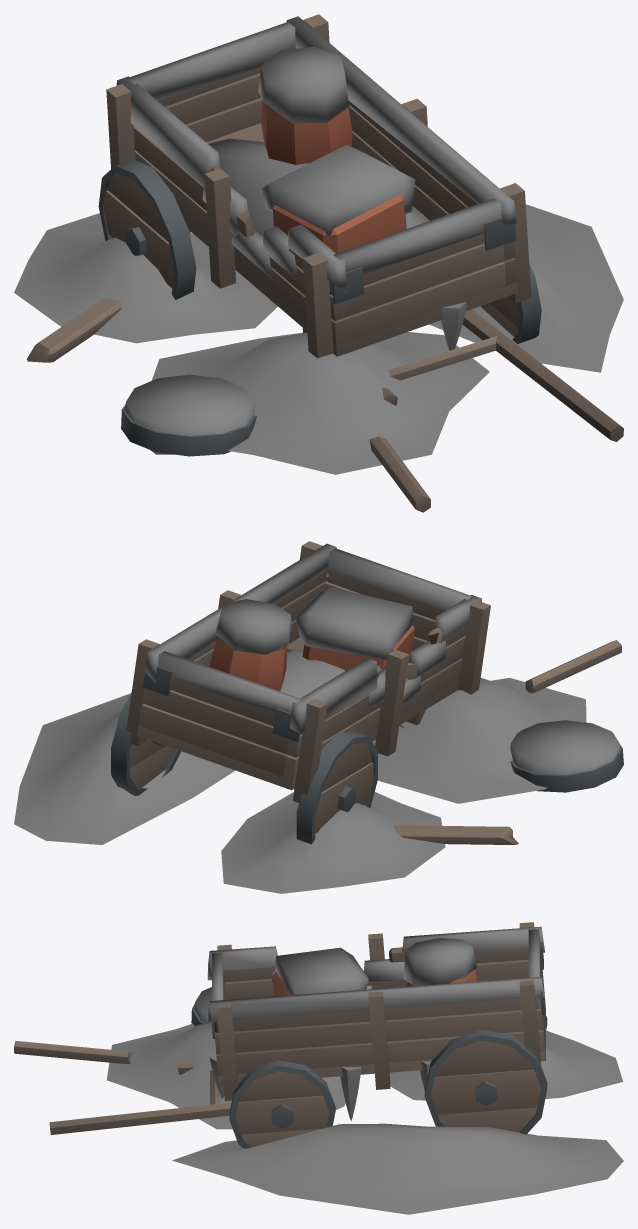
Rendered from cart_frozen_A_lavender.fbx.
3 renders of one model, top to bottom at view 1: azimuth 30°, elevation 25°; view 2: azimuth 150°, elevation 25°; view 3: azimuth 270°, elevation 25°, orthographic. The views are drawn at different scales.
Parts seen in each view (by area): view 1: cart_frozen_A_lavender; view 2: cart_frozen_A_lavender; view 3: cart_frozen_A_lavender.
Boxes of the visible parts, x1,y1,x2,y2 form: cart_frozen_A_lavender: [14, 14, 623, 512]; cart_frozen_A_lavender: [14, 541, 623, 893]; cart_frozen_A_lavender: [14, 922, 623, 1214].
Bounding box in the file's own units: 2.49 × 0.9924 × 2.98.
